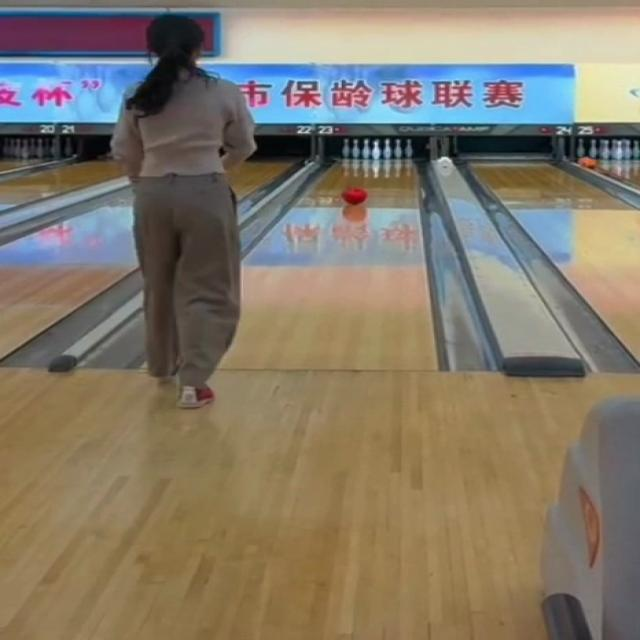alley: (221, 160, 437, 368)
balls: (342, 189, 367, 204)
bottle: (339, 138, 412, 159)
